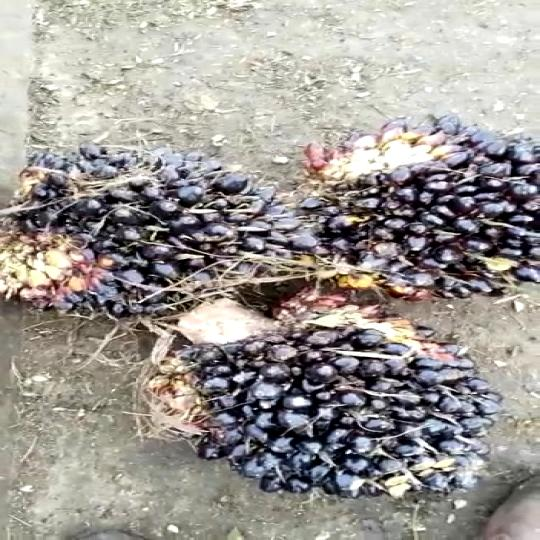mentah: (160, 326, 494, 508), (277, 114, 540, 293), (7, 157, 291, 312)
